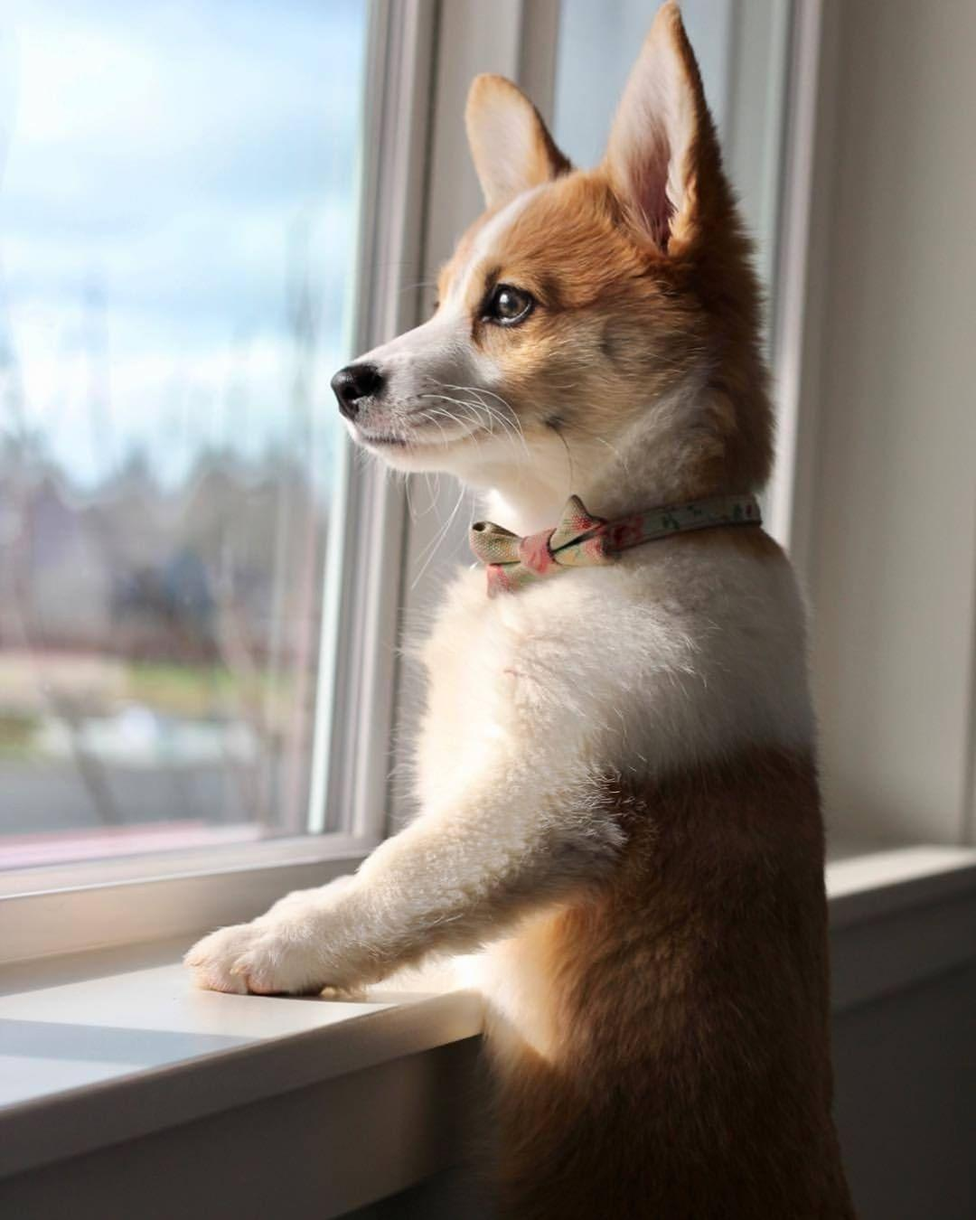puppy-dog: (177, 1, 858, 1220)
